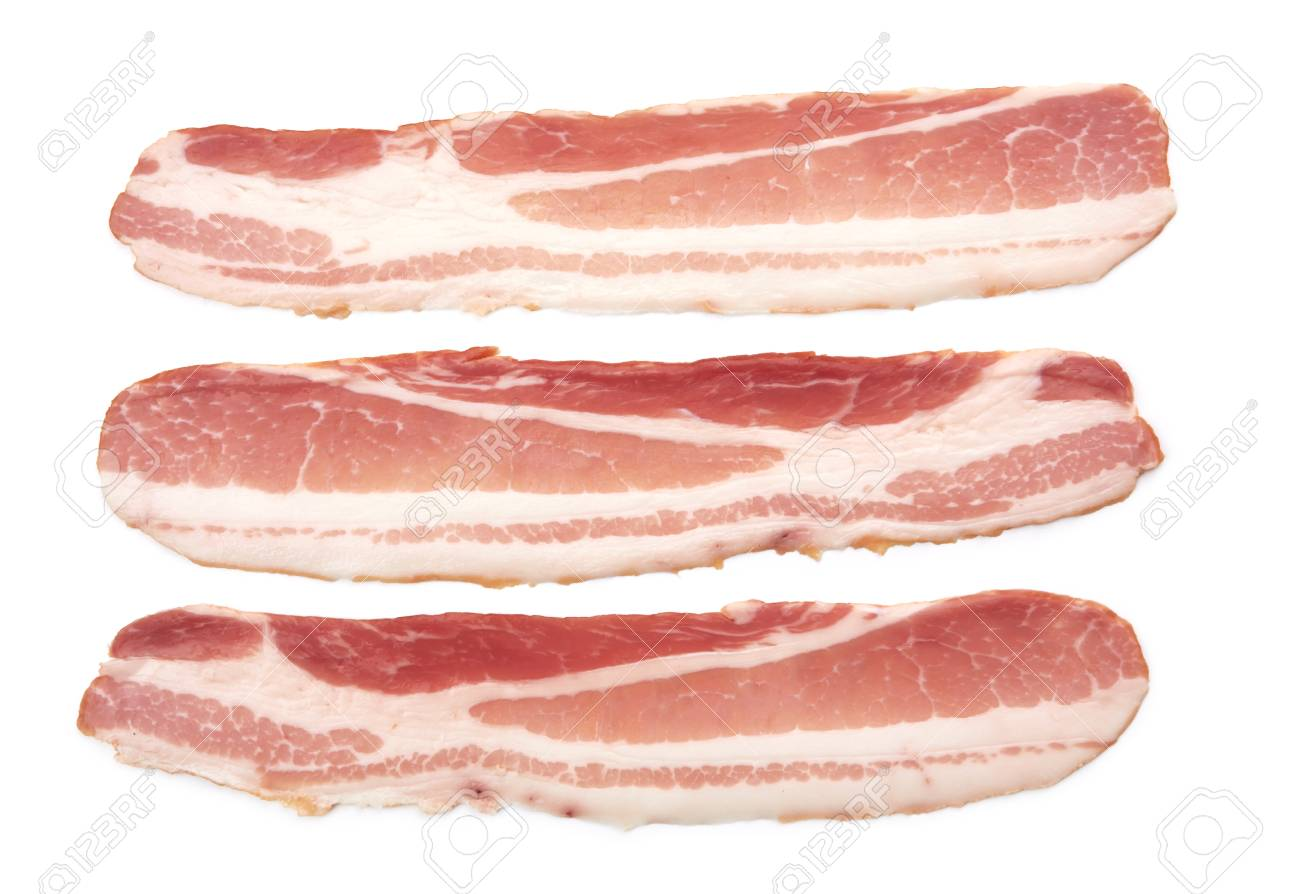bacon: (53, 595, 1225, 861), (110, 336, 1180, 572), (101, 84, 1170, 307)
